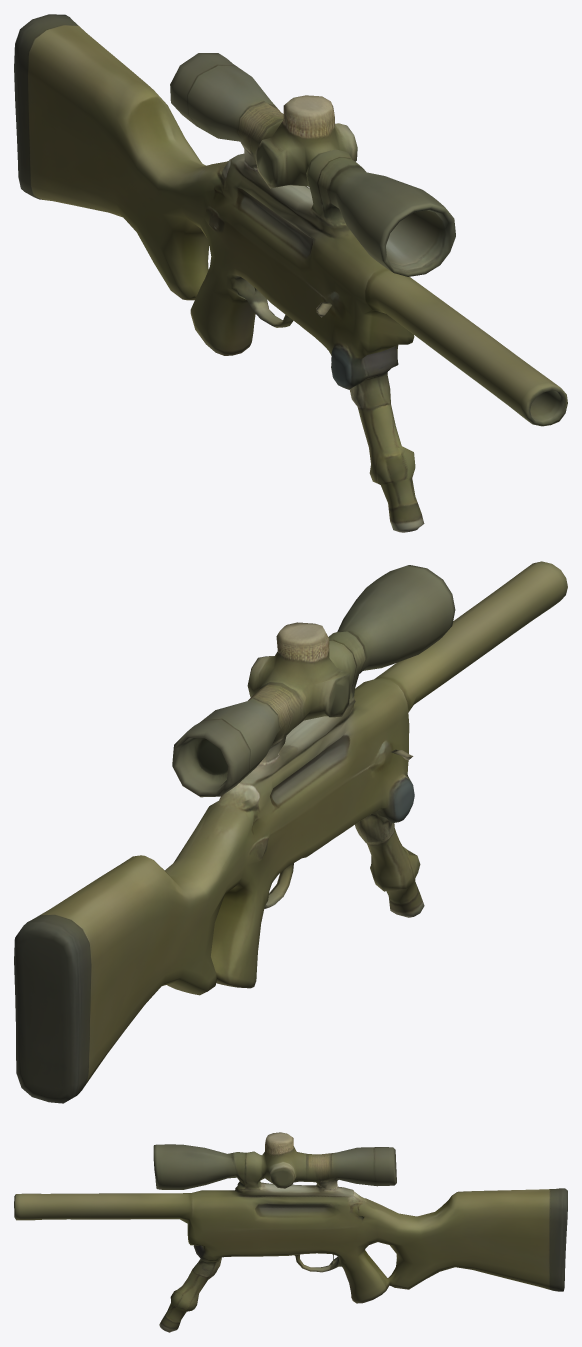
The model's file is wpn_sniper_mid.glb.
3 renders of one model, top to bottom at view 1: azimuth 30°, elevation 25°; view 2: azimuth 150°, elevation 25°; view 3: azimuth 270°, elevation 25°, orthographic. The views are drawn at different scales.
Visible parts, largest first — view 1: wpn_sniper_mid; view 2: wpn_sniper_mid; view 3: wpn_sniper_mid.
Part boxes in pixels (box(x1,y1,x2,y2)): wpn_sniper_mid: box(14, 14, 567, 532); wpn_sniper_mid: box(14, 561, 567, 1103); wpn_sniper_mid: box(14, 1132, 567, 1332).
Bounding box in the file's own units: 0.1052 × 0.3868 × 1.
1 material, 1 textured.
